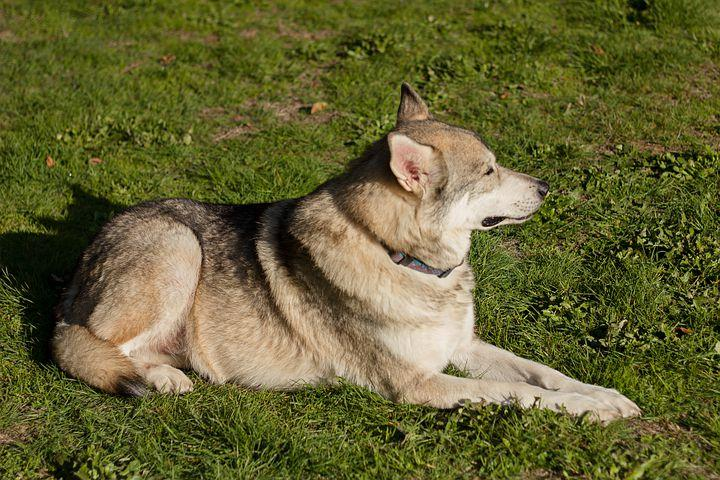Wolf: (49, 76, 645, 434)
